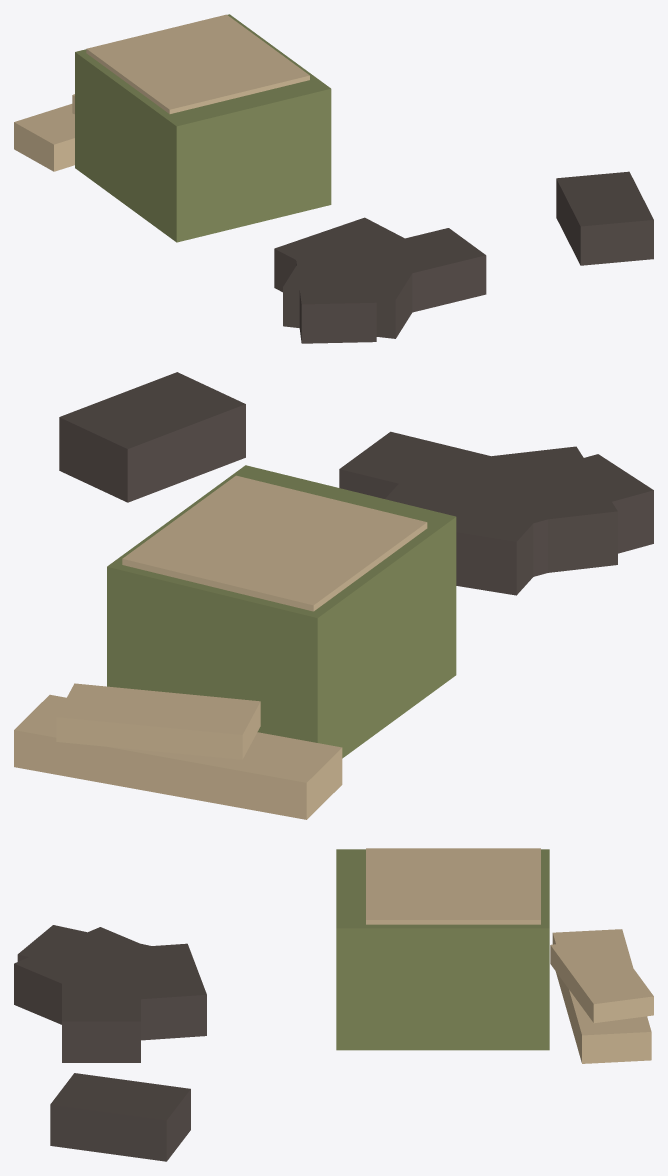
File: SM_HescoCorto1_v0_MallaLimpia_e2_MuyDanado_LOD1.fbx
The picture shows the model from 3 angles, top to bottom: view 1: azimuth 30°, elevation 25°; view 2: azimuth 150°, elevation 25°; view 3: azimuth 270°, elevation 25°; orthographic projection. The views are drawn at different scales.
Parts seen in each view (by area): view 1: SM_hesco_piezas_v42_LOD1; view 2: SM_hesco_piezas_v42_LOD1; view 3: SM_hesco_piezas_v42_LOD1.
Part boxes in pixels (x1=…): SM_hesco_piezas_v42_LOD1: x1=14, y1=14, x2=653, y2=343; SM_hesco_piezas_v42_LOD1: x1=14, y1=372, x2=653, y2=819; SM_hesco_piezas_v42_LOD1: x1=14, y1=848, x2=653, y2=1161.
Bounding box in the file's own units: 2.76 × 0.799 × 3.66.
